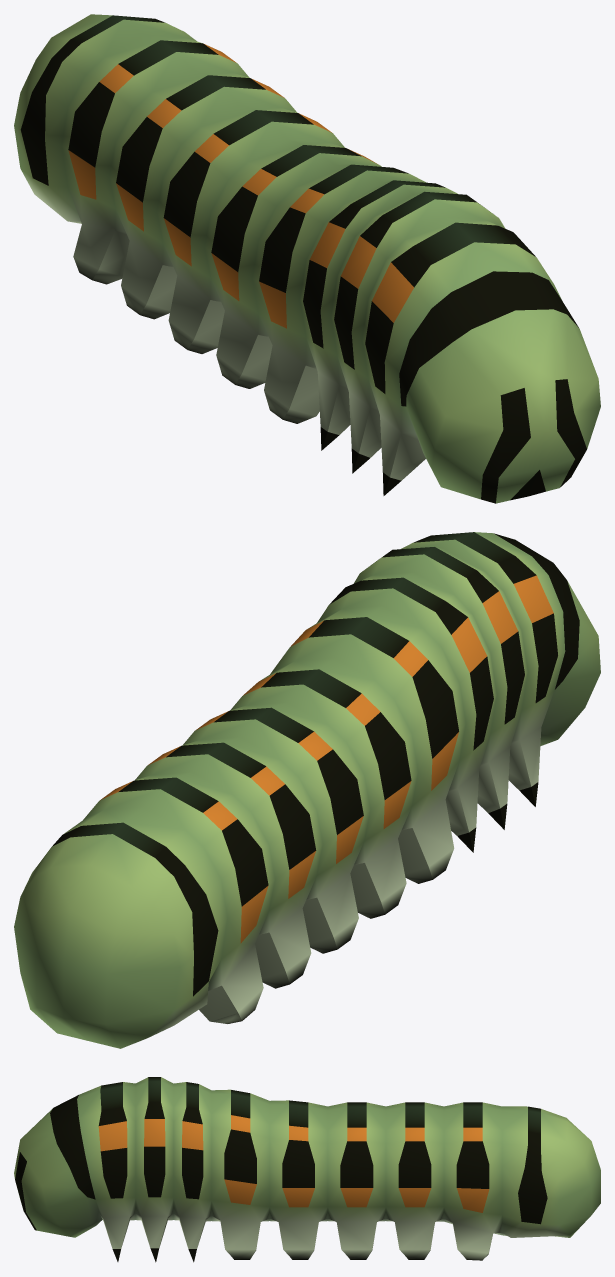
File: kit-caterpillar.glb
The picture shows the model from 3 angles, top to bottom: view 1: azimuth 30°, elevation 25°; view 2: azimuth 150°, elevation 25°; view 3: azimuth 270°, elevation 25°; orthographic projection. The views are drawn at different scales.
Parts seen in each view (by area): view 1: base; view 2: base; view 3: base.
Boxes of the visible parts, left/top/right/bottom form: base: left=14, top=14, right=600, bottom=503; base: left=14, top=532, right=600, bottom=1048; base: left=14, top=1077, right=600, bottom=1262.
Bounding box in the file's own units: 0.2642 × 0.3792 × 1.27.
